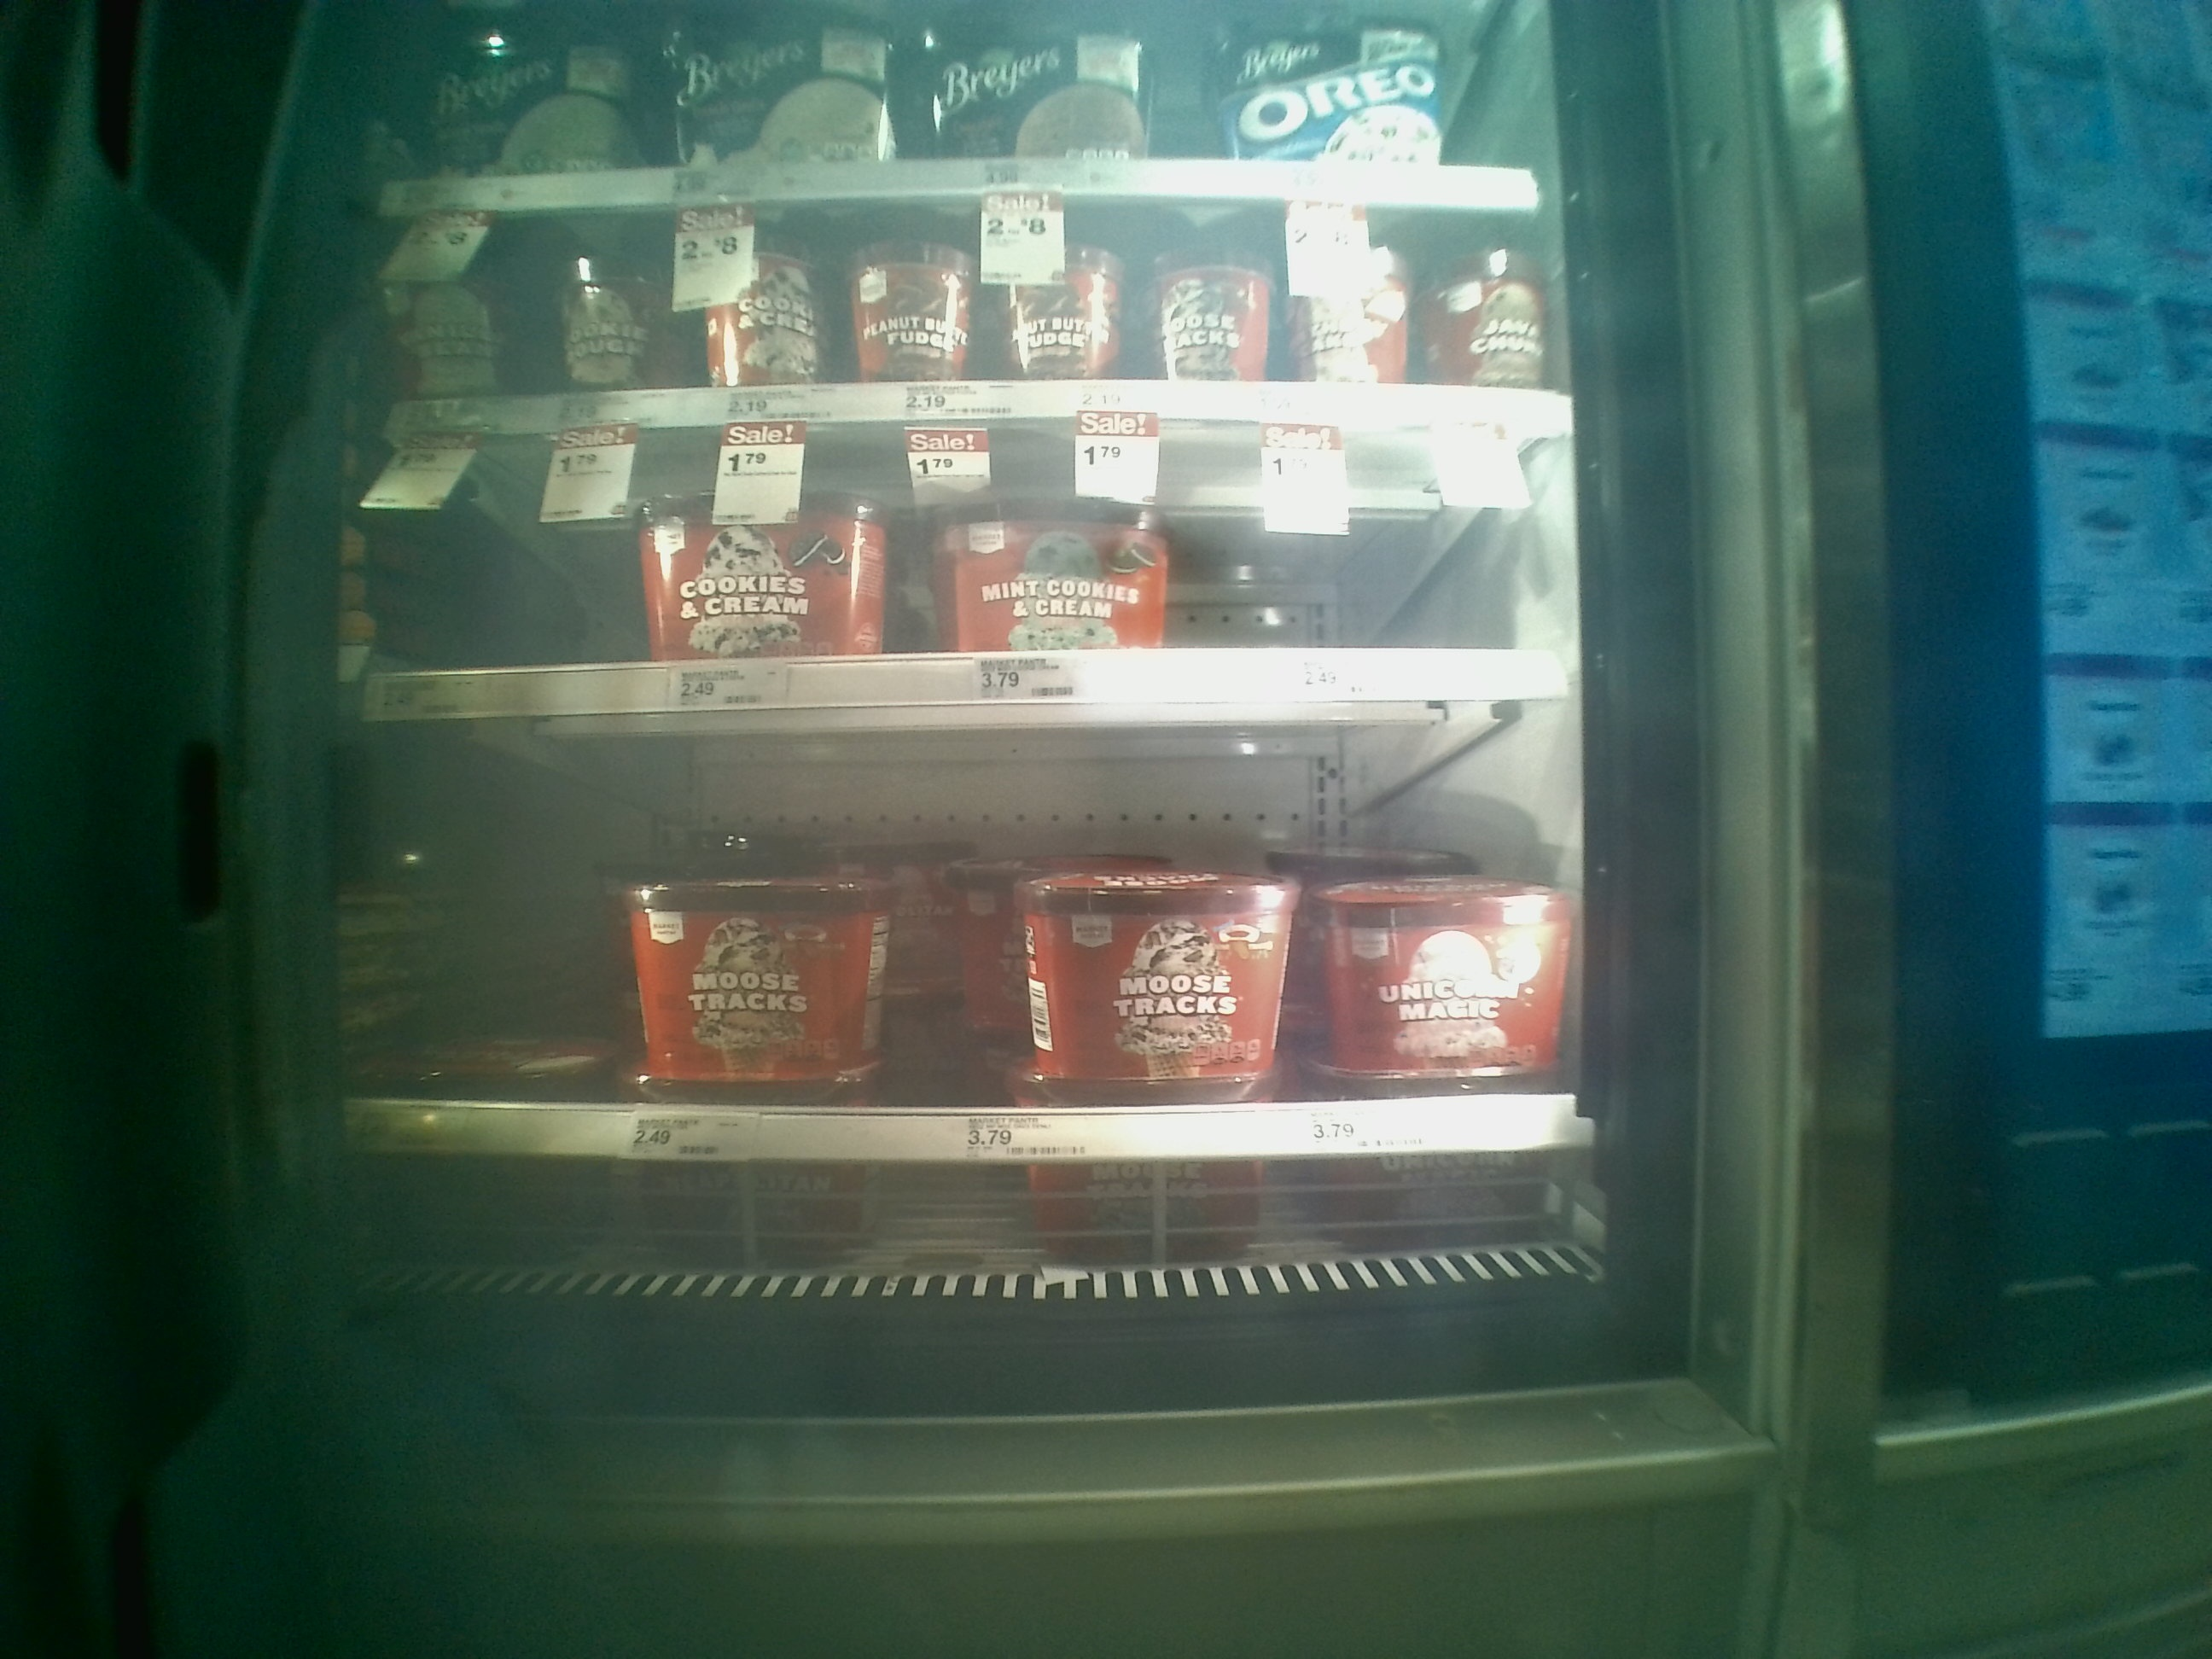ice-cream-shelf: (364, 713, 1588, 1154), (374, 416, 1578, 716), (388, 209, 1550, 415)
